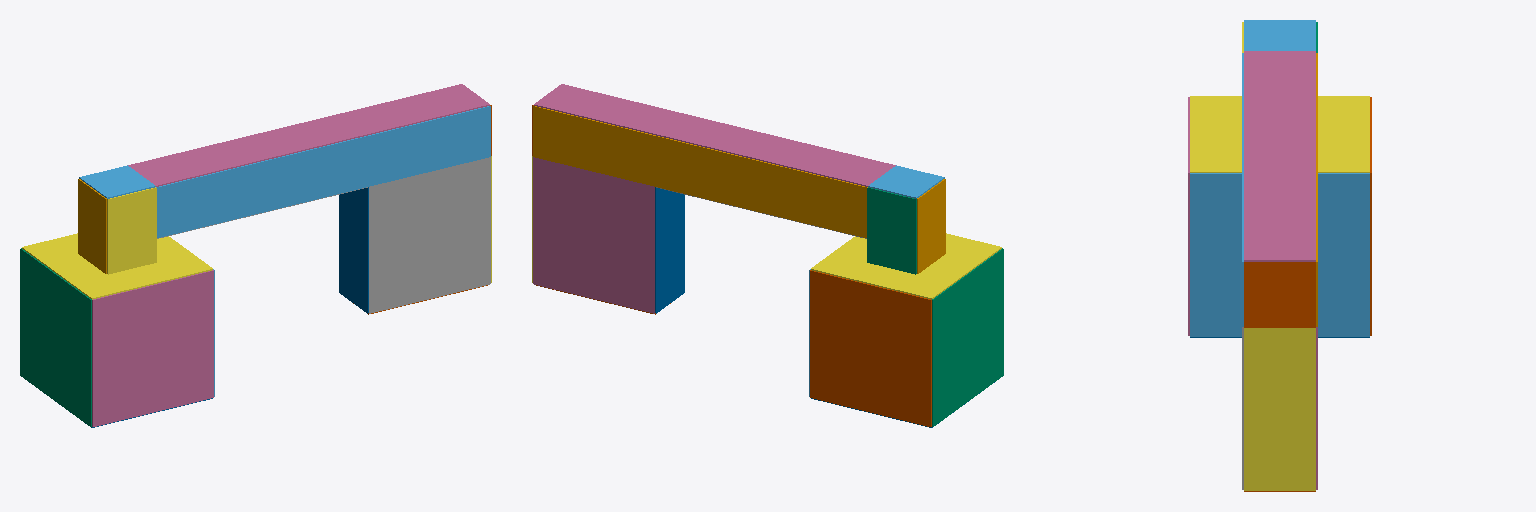
--- Render facts (derived) ---
The picture shows the robot from 3 angles, left to right: view 1: azimuth 30°, elevation 25°; view 2: azimuth 150°, elevation 25°; view 3: azimuth 270°, elevation 25°; orthographic projection.
Robot: robot — 46 links, 45 joints (1 continuous, 44 fixed); root link body; default pose: all joints at 0.
Links seen in each view (by area): view 1: arm_sensor_0_right, body_sensor_0_right, hand_1_sensor_0_right, arm_sensor_0_top, body_sensor_0_stop, body_sensor_0_top, joint_1_sensor_0_right, hand_1_sensor_0_stop, joint_1_sensor_0_stop, joint_1_sensor_0_top; view 2: arm_sensor_0_left, body_sensor_0_left, hand_1_sensor_0_left, arm_sensor_0_top, body_sensor_0_stop, body_sensor_0_top, joint_1_sensor_0_left, hand_1_sensor_0_stop, joint_1_sensor_0_stop, joint_1_sensor_0_top; view 3: body_sensor_0_start, arm_sensor_0_top, hand_1_sensor_0_start, body_sensor_0_top, arm_sensor_0_start, joint_1_sensor_0_top, arm_sensor_0_left, arm_sensor_0_right.
Link boxes in pixels (bbox=[...]): arm_sensor_0_right: bbox=[156, 106, 490, 237]; body_sensor_0_right: bbox=[92, 270, 213, 426]; hand_1_sensor_0_right: bbox=[369, 157, 490, 313]; arm_sensor_0_top: bbox=[128, 84, 489, 186]; body_sensor_0_stop: bbox=[20, 248, 91, 426]; body_sensor_0_top: bbox=[22, 233, 212, 299]; joint_1_sensor_0_right: bbox=[107, 187, 156, 274]; hand_1_sensor_0_stop: bbox=[339, 187, 368, 313]; joint_1_sensor_0_stop: bbox=[78, 179, 106, 273]; joint_1_sensor_0_top: bbox=[79, 165, 155, 198]; arm_sensor_0_left: bbox=[533, 106, 867, 237]; body_sensor_0_left: bbox=[810, 270, 931, 426]; hand_1_sensor_0_left: bbox=[533, 157, 654, 313]; arm_sensor_0_top: bbox=[534, 84, 895, 186]; body_sensor_0_stop: bbox=[932, 248, 1003, 426]; body_sensor_0_top: bbox=[811, 233, 1001, 299]; joint_1_sensor_0_left: bbox=[867, 187, 916, 274]; hand_1_sensor_0_stop: bbox=[655, 187, 684, 313]; joint_1_sensor_0_stop: bbox=[917, 179, 945, 273]; joint_1_sensor_0_top: bbox=[868, 165, 944, 198]; body_sensor_0_start: bbox=[1190, 173, 1369, 336]; arm_sensor_0_top: bbox=[1244, 51, 1315, 261]; hand_1_sensor_0_start: bbox=[1244, 328, 1315, 490]; body_sensor_0_top: bbox=[1190, 96, 1369, 172]; arm_sensor_0_start: bbox=[1244, 262, 1315, 327]; joint_1_sensor_0_top: bbox=[1244, 20, 1315, 50]; arm_sensor_0_left: bbox=[1316, 53, 1317, 326]; arm_sensor_0_right: bbox=[1242, 53, 1243, 326].
Bounding box of the posed robot: 3.47 × 1.02 × 1.62 m (x, y, z).
Geometry: primitives only (box / cylinder / sphere), no mesh files.

robot.urdf — robot:
<?xml version="1.0"?>
    <robot name="robot">


    <!-- body -->
    <link name="body">
        <inertial>
            <origin xyz="0 0 0" rpy="0 0 0"/>
            <mass value="100"/>
            <inertia ixx=".1" ixy=".1" ixz=".1" iyy=".1" iyz=".1" izz=".1"/>
        </inertial>
        <visual>
            <origin xyz="0 0 0" rpy="0 0 0"/>
            <geometry>
                <box size="1 1 1"/>
            </geometry>
        </visual>
        <collision>
            <origin xyz="0 0 0" rpy="0 0 0"/>
            <geometry>
                <box size="1 1 1"/>
            </geometry>
        </collision>
    </link>


    <!-- body_sensor_0_start -->
    <link name="body_sensor_0_start">
        <inertial>
            <origin xyz="0 0 0" rpy="0 0 0"/>
            <mass value="0"/>
            <inertia ixx=".1" ixy=".1" ixz=".1" iyy=".1" iyz=".1" izz=".1"/>
        </inertial>
        <visual>
            <origin xyz="0 0 0" rpy="0 0 0"/>
            <geometry>
                <box size="0.02 1 1"/>
            </geometry>
        </visual>
        <collision>
            <origin xyz="0 0 0" rpy="0 0 0"/>
            <geometry>
                <box size="0.02 1 1"/>
            </geometry>
        </collision>
    </link>
    <!-- Joint: body, body_sensor_0_start -->
    <joint name="body_body_sensor_0_start_joint" type="fixed">
        <parent link="body"/>
        <child link="body_sensor_0_start"/>
        <origin xyz="0.5 0 0"
                rpy="0 0 0"/>
        <axis xyz="0 0 1"/>
        
    </joint>


    <!-- body_sensor_0_stop -->
    <link name="body_sensor_0_stop">
        <inertial>
            <origin xyz="0 0 0" rpy="0 0 0"/>
            <mass value="0"/>
            <inertia ixx=".1" ixy=".1" ixz=".1" iyy=".1" iyz=".1" izz=".1"/>
        </inertial>
        <visual>
            <origin xyz="0 0 0" rpy="0 0 0"/>
            <geometry>
                <box size="0.02 1 1"/>
            </geometry>
        </visual>
        <collision>
            <origin xyz="0 0 0" rpy="0 0 0"/>
            <geometry>
                <box size="0.02 1 1"/>
            </geometry>
        </collision>
    </link>
    <!-- Joint: body, body_sensor_0_stop -->
    <joint name="body_body_sensor_0_stop_joint" type="fixed">
        <parent link="body"/>
        <child link="body_sensor_0_stop"/>
        <origin xyz="-0.5 0 0"
                rpy="0 0 0"/>
        <axis xyz="0 0 1"/>
        
    </joint>


    <!-- body_sensor_0_top -->
    <link name="body_sensor_0_top">
        <inertial>
            <origin xyz="0 0 0" rpy="0 0 0"/>
            <mass value="0"/>
            <inertia ixx=".1" ixy=".1" ixz=".1" iyy=".1" iyz=".1" izz=".1"/>
        </inertial>
        <visual>
            <origin xyz="0 0 0" rpy="0 0 0"/>
            <geometry>
                <box size="1.0 1 0.02"/>
            </geometry>
        </visual>
        <collision>
            <origin xyz="0 0 0" rpy="0 0 0"/>
            <geometry>
                <box size="1.0 1 0.02"/>
            </geometry>
        </collision>
    </link>
    <!-- Joint: body, body_sensor_0_top -->
    <joint name="body_body_sensor_0_top_joint" type="fixed">
        <parent link="body"/>
        <child link="body_sensor_0_top"/>
        <origin xyz="0 0 0.5"
                rpy="0 0 0"/>
        <axis xyz="0 0 1"/>
        
    </joint>


    <!-- body_sensor_0_bottom -->
    <link name="body_sensor_0_bottom">
        <inertial>
            <origin xyz="0 0 0" rpy="0 0 0"/>
            <mass value="0"/>
            <inertia ixx=".1" ixy=".1" ixz=".1" iyy=".1" iyz=".1" izz=".1"/>
        </inertial>
        <visual>
            <origin xyz="0 0 0" rpy="0 0 0"/>
            <geometry>
                <box size="1.0 1 0.02"/>
            </geometry>
        </visual>
        <collision>
            <origin xyz="0 0 0" rpy="0 0 0"/>
            <geometry>
                <box size="1.0 1 0.02"/>
            </geometry>
        </collision>
    </link>
    <!-- Joint: body, body_sensor_0_bottom -->
    <joint name="body_body_sensor_0_bottom_joint" type="fixed">
        <parent link="body"/>
        <child link="body_sensor_0_bottom"/>
        <origin xyz="0 0 -0.5"
                rpy="0 0 0"/>
        <axis xyz="0 0 1"/>
        
    </joint>


    <!-- body_sensor_0_left -->
    <link name="body_sensor_0_left">
        <inertial>
            <origin xyz="0 0 0" rpy="0 0 0"/>
            <mass value="0"/>
            <inertia ixx=".1" ixy=".1" ixz=".1" iyy=".1" iyz=".1" izz=".1"/>
        </inertial>
        <visual>
            <origin xyz="0 0 0" rpy="0 0 0"/>
            <geometry>
                <box size="1.0 0.02 1"/>
            </geometry>
        </visual>
        <collision>
            <origin xyz="0 0 0" rpy="0 0 0"/>
            <geometry>
                <box size="1.0 0.02 1"/>
            </geometry>
        </collision>
    </link>
    <!-- Joint: body, body_sensor_0_left -->
    <joint name="body_body_sensor_0_left_joint" type="fixed">
        <parent link="body"/>
        <child link="body_sensor_0_left"/>
        <origin xyz="0 0.5 0"
                rpy="0 0 0"/>
        <axis xyz="0 0 1"/>
        
    </joint>


    <!-- body_sensor_0_right -->
    <link name="body_sensor_0_right">
        <inertial>
            <origin xyz="0 0 0" rpy="0 0 0"/>
            <mass value="0"/>
            <inertia ixx=".1" ixy=".1" ixz=".1" iyy=".1" iyz=".1" izz=".1"/>
        </inertial>
        <visual>
            <origin xyz="0 0 0" rpy="0 0 0"/>
            <geometry>
                <box size="1.0 0.02 1"/>
            </geometry>
        </visual>
        <collision>
            <origin xyz="0 0 0" rpy="0 0 0"/>
            <geometry>
                <box size="1.0 0.02 1"/>
            </geometry>
        </collision>
    </link>
    <!-- Joint: body, body_sensor_0_right -->
    <joint name="body_body_sensor_0_right_joint" type="fixed">
        <parent link="body"/>
        <child link="body_sensor_0_right"/>
        <origin xyz="0 -0.5 0"
                rpy="0 0 0"/>
        <axis xyz="0 0 1"/>
        
    </joint>


    <!-- joint_1 -->
    <link name="joint_1">
        <inertial>
            <origin xyz="0 0 0" rpy="0 0 0"/>
            <mass value="2"/>
            <inertia ixx=".1" ixy=".1" ixz=".1" iyy=".1" iyz=".1" izz=".1"/>
        </inertial>
        <visual>
            <origin xyz="0 0 0" rpy="0 0 0"/>
            <geometry>
                <box size="0.4 0.4 0.6000000000000001"/>
            </geometry>
        </visual>
        <collision>
            <origin xyz="0 0 0" rpy="0 0 0"/>
            <geometry>
                <box size="0.4 0.4 0.6000000000000001"/>
            </geometry>
        </collision>
    </link>


    <!-- joint_1_sensor_0_stop -->
    <link name="joint_1_sensor_0_stop">
        <inertial>
            <origin xyz="0 0 0" rpy="0 0 0"/>
            <mass value="0"/>
            <inertia ixx=".1" ixy=".1" ixz=".1" iyy=".1" iyz=".1" izz=".1"/>
        </inertial>
        <visual>
            <origin xyz="0 0 0" rpy="0 0 0"/>
            <geometry>
                <box size="0.02 0.4 0.6000000000000001"/>
            </geometry>
        </visual>
        <collision>
            <origin xyz="0 0 0" rpy="0 0 0"/>
            <geometry>
                <box size="0.02 0.4 0.6000000000000001"/>
            </geometry>
        </collision>
    </link>
    <!-- Joint: joint_1, joint_1_sensor_0_stop -->
    <joint name="joint_1_joint_1_sensor_0_stop_joint" type="fixed">
        <parent link="joint_1"/>
        <child link="joint_1_sensor_0_stop"/>
        <origin xyz="-0.2 0 0"
                rpy="0 0 0"/>
        <axis xyz="0 0 1"/>
        
    </joint>


    <!-- joint_1_sensor_0_top -->
    <link name="joint_1_sensor_0_top">
        <inertial>
            <origin xyz="0 0 0" rpy="0 0 0"/>
            <mass value="0"/>
            <inertia ixx=".1" ixy=".1" ixz=".1" iyy=".1" iyz=".1" izz=".1"/>
        </inertial>
        <visual>
            <origin xyz="0 0 0" rpy="0 0 0"/>
            <geometry>
                <box size="0.4 0.4 0.02"/>
            </geometry>
        </visual>
        <collision>
            <origin xyz="0 0 0" rpy="0 0 0"/>
            <geometry>
                <box size="0.4 0.4 0.02"/>
            </geometry>
        </collision>
    </link>
    <!-- Joint: joint_1, joint_1_sensor_0_top -->
    <joint name="joint_1_joint_1_sensor_0_top_joint" type="fixed">
        <parent link="joint_1"/>
        <child link="joint_1_sensor_0_top"/>
        <origin xyz="0 0 0.30000000000000004"
                rpy="0 0 0"/>
        <axis xyz="0 0 1"/>
        
    </joint>


    <!-- joint_1_sensor_0_left -->
    <link name="joint_1_sensor_0_left">
        <inertial>
            <origin xyz="0 0 0" rpy="0 0 0"/>
            <mass value="0"/>
            <inertia ixx=".1" ixy=".1" ixz=".1" iyy=".1" iyz=".1" izz=".1"/>
        </inertial>
        <visual>
            <origin xyz="0 0 0" rpy="0 0 0"/>
            <geometry>
                <box size="0.4 0.02 0.6000000000000001"/>
            </geometry>
        </visual>
        <collision>
            <origin xyz="0 0 0" rpy="0 0 0"/>
            <geometry>
                <box size="0.4 0.02 0.6000000000000001"/>
            </geometry>
        </collision>
    </link>
    <!-- Joint: joint_1, joint_1_sensor_0_left -->
    <joint name="joint_1_joint_1_sensor_0_left_joint" type="fixed">
        <parent link="joint_1"/>
        <child link="joint_1_sensor_0_left"/>
        <origin xyz="0 0.2 0"
                rpy="0 0 0"/>
        <axis xyz="0 0 1"/>
        
    </joint>


    <!-- joint_1_sensor_0_right -->
    <link name="joint_1_sensor_0_right">
        <inertial>
            <origin xyz="0 0 0" rpy="0 0 0"/>
            <mass value="0"/>
            <inertia ixx=".1" ixy=".1" ixz=".1" iyy=".1" iyz=".1" izz=".1"/>
        </inertial>
        <visual>
            <origin xyz="0 0 0" rpy="0 0 0"/>
            <geometry>
                <box size="0.4 0.02 0.6000000000000001"/>
            </geometry>
        </visual>
        <collision>
            <origin xyz="0 0 0" rpy="0 0 0"/>
            <geometry>
                <box size="0.4 0.02 0.6000000000000001"/>
            </geometry>
        </collision>
    </link>
    <!-- Joint: joint_1, joint_1_sensor_0_right -->
    <joint name="joint_1_joint_1_sensor_0_right_joint" type="fixed">
        <parent link="joint_1"/>
        <child link="joint_1_sensor_0_right"/>
        <origin xyz="0 -0.2 0"
                rpy="0 0 0"/>
        <axis xyz="0 0 1"/>
        
    </joint>
    <!-- Joint: body, joint_1 -->
    <joint name="body_joint_1_joint" type="continuous">
        <parent link="body"/>
        <child link="joint_1"/>
        <origin xyz="0 0 0.8"
                rpy="0 0 0"/>
        <axis xyz="0 0 1"/>
        <limit lower="0" upper="0" effort="0" velocity="0"/>
    </joint>


    <!-- arm -->
    <link name="arm">
        <inertial>
            <origin xyz="0 0 0" rpy="0 0 0"/>
            <mass value="2"/>
            <inertia ixx=".1" ixy=".1" ixz=".1" iyy=".1" iyz=".1" izz=".1"/>
        </inertial>
        <visual>
            <origin xyz="0 0 0" rpy="0 0 0"/>
            <geometry>
                <box size="2.75 0.4 0.4"/>
            </geometry>
        </visual>
        <collision>
            <origin xyz="0 0 0" rpy="0 0 0"/>
            <geometry>
                <box size="2.75 0.4 0.4"/>
            </geometry>
        </collision>
    </link>


    <!-- arm_sensor_0_start -->
    <link name="arm_sensor_0_start">
        <inertial>
            <origin xyz="0 0 0" rpy="0 0 0"/>
            <mass value="0"/>
            <inertia ixx=".1" ixy=".1" ixz=".1" iyy=".1" iyz=".1" izz=".1"/>
        </inertial>
        <visual>
            <origin xyz="0 0 0" rpy="0 0 0"/>
            <geometry>
                <box size="0.02 0.4 0.4"/>
            </geometry>
        </visual>
        <collision>
            <origin xyz="0 0 0" rpy="0 0 0"/>
            <geometry>
                <box size="0.02 0.4 0.4"/>
            </geometry>
        </collision>
    </link>
    <!-- Joint: arm, arm_sensor_0_start -->
    <joint name="arm_arm_sensor_0_start_joint" type="fixed">
        <parent link="arm"/>
        <child link="arm_sensor_0_start"/>
        <origin xyz="1.375 0 0"
                rpy="0 0 0"/>
        <axis xyz="0 1 0"/>
        
    </joint>


    <!-- arm_sensor_0_top -->
    <link name="arm_sensor_0_top">
        <inertial>
            <origin xyz="0 0 0" rpy="0 0 0"/>
            <mass value="0"/>
            <inertia ixx=".1" ixy=".1" ixz=".1" iyy=".1" iyz=".1" izz=".1"/>
        </inertial>
        <visual>
            <origin xyz="0 0 0" rpy="0 0 0"/>
            <geometry>
                <box size="2.75 0.4 0.02"/>
            </geometry>
        </visual>
        <collision>
            <origin xyz="0 0 0" rpy="0 0 0"/>
            <geometry>
                <box size="2.75 0.4 0.02"/>
            </geometry>
        </collision>
    </link>
    <!-- Joint: arm, arm_sensor_0_top -->
    <joint name="arm_arm_sensor_0_top_joint" type="fixed">
        <parent link="arm"/>
        <child link="arm_sensor_0_top"/>
        <origin xyz="0 0 0.2"
                rpy="0 0 0"/>
        <axis xyz="0 1 0"/>
        
    </joint>


    <!-- arm_sensor_0_bottom -->
    <link name="arm_sensor_0_bottom">
        <inertial>
            <origin xyz="0 0 0" rpy="0 0 0"/>
            <mass value="0"/>
            <inertia ixx=".1" ixy=".1" ixz=".1" iyy=".1" iyz=".1" izz=".1"/>
        </inertial>
        <visual>
            <origin xyz="0 0 0" rpy="0 0 0"/>
            <geometry>
                <box size="2.75 0.4 0.02"/>
            </geometry>
        </visual>
        <collision>
            <origin xyz="0 0 0" rpy="0 0 0"/>
            <geometry>
                <box size="2.75 0.4 0.02"/>
            </geometry>
        </collision>
    </link>
    <!-- Joint: arm, arm_sensor_0_bottom -->
    <joint name="arm_arm_sensor_0_bottom_joint" type="fixed">
        <parent link="arm"/>
        <child link="arm_sensor_0_bottom"/>
        <origin xyz="0 0 -0.2"
                rpy="0 0 0"/>
        <axis xyz="0 1 0"/>
        
    </joint>


    <!-- arm_sensor_0_left -->
    <link name="arm_sensor_0_left">
        <inertial>
            <origin xyz="0 0 0" rpy="0 0 0"/>
            <mass value="0"/>
            <inertia ixx=".1" ixy=".1" ixz=".1" iyy=".1" iyz=".1" izz=".1"/>
        </inertial>
        <visual>
            <origin xyz="0 0 0" rpy="0 0 0"/>
            <geometry>
                <box size="2.75 0.02 0.4"/>
            </geometry>
        </visual>
        <collision>
            <origin xyz="0 0 0" rpy="0 0 0"/>
            <geometry>
                <box size="2.75 0.02 0.4"/>
            </geometry>
        </collision>
    </link>
    <!-- Joint: arm, arm_sensor_0_left -->
    <joint name="arm_arm_sensor_0_left_joint" type="fixed">
        <parent link="arm"/>
        <child link="arm_sensor_0_left"/>
        <origin xyz="0 0.2 0"
                rpy="0 0 0"/>
        <axis xyz="0 1 0"/>
        
    </joint>


    <!-- arm_sensor_0_right -->
    <link name="arm_sensor_0_right">
        <inertial>
            <origin xyz="0 0 0" rpy="0 0 0"/>
            <mass value="0"/>
            <inertia ixx=".1" ixy=".1" ixz=".1" iyy=".1" iyz=".1" izz=".1"/>
        </inertial>
        <visual>
            <origin xyz="0 0 0" rpy="0 0 0"/>
            <geometry>
                <box size="2.75 0.02 0.4"/>
            </geometry>
        </visual>
        <collision>
            <origin xyz="0 0 0" rpy="0 0 0"/>
            <geometry>
                <box size="2.75 0.02 0.4"/>
            </geometry>
        </collision>
    </link>
    <!-- Joint: arm, arm_sensor_0_right -->
    <joint name="arm_arm_sensor_0_right_joint" type="fixed">
        <parent link="arm"/>
        <child link="arm_sensor_0_right"/>
        <origin xyz="0 -0.2 0"
                rpy="0 0 0"/>
        <axis xyz="0 1 0"/>
        
    </joint>
    <!-- Joint: joint_1, arm -->
    <joint name="joint_1_arm_joint" type="fixed">
        <parent link="joint_1"/>
        <child link="arm"/>
        <origin xyz="1.575 0 0.10000000000000003"
                rpy="0 0 0"/>
        <axis xyz="0 1 0"/>
        
    </joint>


    <!-- hand_1 -->
    <link name="hand_1">
        <inertial>
            <origin xyz="0 0 0" rpy="0 0 0"/>
            <mass value="2"/>
            <inertia ixx=".1" ixy=".1" ixz=".1" iyy=".1" iyz=".1" izz=".1"/>
        </inertial>
        <visual>
            <origin xyz="0 0 0" rpy="0 0 0"/>
            <geometry>
                <box size="1 0.4 1"/>
            </geometry>
        </visual>
        <collision>
            <origin xyz="0 0 0" rpy="0 0 0"/>
            <geometry>
                <box size="1 0.4 1"/>
            </geometry>
        </collision>
    </link>


    <!-- hand_1_sensor_0_start -->
    <link name="hand_1_sensor_0_start">
        <inertial>
            <origin xyz="0 0 0" rpy="0 0 0"/>
            <mass value="0"/>
            <inertia ixx=".1" ixy=".1" ixz=".1" iyy=".1" iyz=".1" izz=".1"/>
        </inertial>
        <visual>
            <origin xyz="0 0 0" rpy="0 0 0"/>
            <geometry>
                <box size="0.02 0.4 1"/>
            </geometry>
        </visual>
        <collision>
            <origin xyz="0 0 0" rpy="0 0 0"/>
            <geometry>
                <box size="0.02 0.4 1"/>
            </geometry>
        </collision>
    </link>
    <!-- Joint: hand_1, hand_1_sensor_0_start -->
    <joint name="hand_1_hand_1_sensor_0_start_joint" type="fixed">
        <parent link="hand_1"/>
        <child link="hand_1_sensor_0_start"/>
        <origin xyz="0.5 0 0"
                rpy="0 0 0"/>
        <axis xyz="0 1 0"/>
        
    </joint>


    <!-- hand_1_sensor_0_stop -->
    <link name="hand_1_sensor_0_stop">
        <inertial>
            <origin xyz="0 0 0" rpy="0 0 0"/>
            <mass value="0"/>
            <inertia ixx=".1" ixy=".1" ixz=".1" iyy=".1" iyz=".1" izz=".1"/>
        </inertial>
        <visual>
            <origin xyz="0 0 0" rpy="0 0 0"/>
            <geometry>
                <box size="0.02 0.4 1"/>
            </geometry>
        </visual>
        <collision>
            <origin xyz="0 0 0" rpy="0 0 0"/>
            <geometry>
                <box size="0.02 0.4 1"/>
            </geometry>
        </collision>
    </link>
    <!-- Joint: hand_1, hand_1_sensor_0_stop -->
    <joint name="hand_1_hand_1_sensor_0_stop_joint" type="fixed">
        <parent link="hand_1"/>
        <child link="hand_1_sensor_0_stop"/>
        <origin xyz="-0.5 0 0"
                rpy="0 0 0"/>
        <axis xyz="0 1 0"/>
        
    </joint>


    <!-- hand_1_sensor_0_bottom -->
    <link name="hand_1_sensor_0_bottom">
        <inertial>
            <origin xyz="0 0 0" rpy="0 0 0"/>
            <mass value="0"/>
            <inertia ixx=".1" ixy=".1" ixz=".1" iyy=".1" iyz=".1" izz=".1"/>
        </inertial>
        <visual>
            <origin xyz="0 0 0" rpy="0 0 0"/>
            <geometry>
                <box size="1.0 0.4 0.02"/>
            </geometry>
        </visual>
        <collision>
            <origin xyz="0 0 0" rpy="0 0 0"/>
            <geometry>
                <box size="1.0 0.4 0.02"/>
            </geometry>
        </collision>
    </link>
    <!-- Joint: hand_1, hand_1_sensor_0_bottom -->
    <joint name="hand_1_hand_1_sensor_0_bottom_joint" type="fixed">
        <parent link="hand_1"/>
        <child link="hand_1_sensor_0_bottom"/>
        <origin xyz="0 0 -0.5"
                rpy="0 0 0"/>
        <axis xyz="0 1 0"/>
        
    </joint>


    <!-- hand_1_sensor_0_left -->
    <link name="hand_1_sensor_0_left">
        <inertial>
            <origin xyz="0 0 0" rpy="0 0 0"/>
            <mass value="0"/>
            <inertia ixx=".1" ixy=".1" ixz=".1" iyy=".1" iyz=".1" izz=".1"/>
        </inertial>
        <visual>
            <origin xyz="0 0 0" rpy="0 0 0"/>
            <geometry>
                <box size="1.0 0.02 1"/>
            </geometry>
        </visual>
        <collision>
            <origin xyz="0 0 0" rpy="0 0 0"/>
            <geometry>
                <box size="1.0 0.02 1"/>
            </geometry>
        </collision>
    </link>
    <!-- Joint: hand_1, hand_1_sensor_0_left -->
    <joint name="hand_1_hand_1_sensor_0_left_joint" type="fixed">
        <parent link="hand_1"/>
        <child link="hand_1_sensor_0_left"/>
        <origin xyz="0 0.2 0"
                rpy="0 0 0"/>
        <axis xyz="0 1 0"/>
        
    </joint>


    <!-- hand_1_sensor_0_right -->
    <link name="hand_1_sensor_0_right">
        <inertial>
            <origin xyz="0 0 0" rpy="0 0 0"/>
            <mass value="0"/>
            <inertia ixx=".1" ixy=".1" ixz=".1" iyy=".1" iyz=".1" izz=".1"/>
        </inertial>
        <visual>
            <origin xyz="0 0 0" rpy="0 0 0"/>
            <geometry>
                <box size="1.0 0.02 1"/>
            </geometry>
        </visual>
        <collision>
            <origin xyz="0 0 0" rpy="0 0 0"/>
            <geometry>
                <box size="1.0 0.02 1"/>
            </geometry>
        </collision>
    </link>
    <!-- Joint: hand_1, hand_1_sensor_0_right -->
    <joint name="hand_1_hand_1_sensor_0_right_joint" type="fixed">
        <parent link="hand_1"/>
        <child link="hand_1_sensor_0_right"/>
        <origin xyz="0 -0.2 0"
                rpy="0 0 0"/>
        <axis xyz="0 1 0"/>
        
    </joint>
    <!-- Joint: arm, hand_1 -->
    <joint name="arm_hand_1_joint" type="fixed">
        <parent link="arm"/>
        <child link="hand_1"/>
        <origin xyz="0.875 0 -0.7"
                rpy="0 0 0"/>
        <axis xyz="0 1 0"/>
        
    </joint>


    <!-- body_face_front_0 -->
    <link name="body_face_front_0">
        <inertial>
            <origin xyz="0 0 0" rpy="0 0 0"/>
            <mass value="0"/>
            <inertia ixx=".1" ixy=".1" ixz=".1" iyy=".1" iyz=".1" izz=".1"/>
        </inertial>
        <visual>
            <origin xyz="0 0 0" rpy="0 0 0"/>
            <geometry>
                <box size="0.002 0.1111111111111111 0.1111111111111111"/>
            </geometry>
        </visual>
        <collision>
            <origin xyz="0 0 0" rpy="0 0 0"/>
            <geometry>
                <box size="0.002 0.1111111111111111 0.1111111111111111"/>
            </geometry>
        </collision>
    </link>
    <!-- Joint: body, body_face_front_0 -->
    <joint name="body_body_face_front_0_joint" type="fixed">
        <parent link="body"/>
        <child link="body_face_front_0"/>
        <origin xyz="0.501 -0.33333333333333337 0.11111111111111116"
                rpy="0 0 0"/>
        <axis xyz="0 0 1"/>
        
    </joint>


    <!-- body_face_front_1 -->
    <link name="body_face_front_1">
        <inertial>
            <origin xyz="0 0 0" rpy="0 0 0"/>
            <mass value="0"/>
            <inertia ixx=".1" ixy=".1" ixz=".1" iyy=".1" iyz=".1" izz=".1"/>
        </inertial>
        <visual>
            <origin xyz="0 0 0" rpy="0 0 0"/>
            <geometry>
                <box size="0.002 0.1111111111111111 0.1111111111111111"/>
            </geometry>
        </visual>
        <collision>
            <origin xyz="0 0 0" rpy="0 0 0"/>
            <geometry>
                <box size="0.002 0.1111111111111111 0.1111111111111111"/>
            </geometry>
        </collision>
    </link>
    <!-- Joint: body, body_face_front_1 -->
    <joint name="body_body_face_front_1_joint" type="fixed">
        <parent link="body"/>
        <child link="body_face_front_1"/>
        <origin xyz="0.501 -0.2222222222222222 0.2222222222222222"
                rpy="0 0 0"/>
        <axis xyz="0 0 1"/>
        
    </joint>


    <!-- body_face_front_2 -->
    <link name="body_face_front_2">
        <inertial>
            <origin xyz="0 0 0" rpy="0 0 0"/>
            <mass value="0"/>
            <inertia ixx=".1" ixy=".1" ixz=".1" iyy=".1" iyz=".1" izz=".1"/>
        </inertial>
        <visual>
            <origin xyz="0 0 0" rpy="0 0 0"/>
            <geometry>
                <box size="0.002 0.1111111111111111 0.1111111111111111"/>
            </geometry>
        </visual>
        <collision>
            <origin xyz="0 0 0" rpy="0 0 0"/>
            <geometry>
                <box size="0.002 0.1111111111111111 0.1111111111111111"/>
            </geometry>
        </collision>
    </link>
    <!-- Joint: body, body_face_front_2 -->
    <joint name="body_body_face_front_2_joint" type="fixed">
        <parent link="body"/>
        <child link="body_face_front_2"/>
        <origin xyz="0.501 -0.1111111111111111 0.11111111111111116"
                rpy="0 0 0"/>
        <axis xyz="0 0 1"/>
        
    </joint>


    <!-- body_face_front_3 -->
    <link name="body_face_front_3">
        <inertial>
            <origin xyz="0 0 0" rpy="0 0 0"/>
            <mass value="0"/>
            <inertia ixx=".1" ixy=".1" ixz=".1" iyy=".1" iyz=".1" izz=".1"/>
        </inertial>
        <visual>
            <origin xyz="0 0 0" rpy="0 0 0"/>
            <geometry>
                <box size="0.002 0.1111111111111111 0.1111111111111111"/>
            </geometry>
        </visual>
        <collision>
            <origin xyz="0 0 0" rpy="0 0 0"/>
            <geometry>
                <box size="0.002 0.1111111111111111 0.1111111111111111"/>
            </geometry>
        </collision>
    </link>
    <!-- Joint: body, body_face_front_3 -->
    <joint name="body_body_face_front_3_joint" type="fixed">
        <parent link="body"/>
        <child link="body_face_front_3"/>
        <origin xyz="0.501 -0.1111111111111111 -0.2222222222222222"
                rpy="0 0 0"/>
        <axis xyz="0 0 1"/>
        
    </joint>


    <!-- body_face_front_4 -->
    <link name="body_face_front_4">
        <inertial>
            <origin xyz="0 0 0" rpy="0 0 0"/>
            <mass value="0"/>
            <inertia ixx=".1" ixy=".1" ixz=".1" iyy=".1" iyz=".1" izz=".1"/>
        </inertial>
        <visual>
            <origin xyz="0 0 0" rpy="0 0 0"/>
            <geometry>
                <box size="0.002 0.1111111111111111 0.1111111111111111"/>
            </geometry>
        </visual>
        <collision>
            <origin xyz="0 0 0" rpy="0 0 0"/>
            <geometry>
                <box size="0.002 0.1111111111111111 0.1111111111111111"/>
            </geometry>
        </collision>
    </link>
    <!-- Joint: body, body_face_front_4 -->
    <joint name="body_body_face_front_4_joint" type="fixed">
        <parent link="body"/>
        <child link="body_face_front_4"/>
        <origin xyz="0.501 0.0 -0.2222222222222222"
                rpy="0 0 0"/>
        <axis xyz="0 0 1"/>
        
    </joint>


    <!-- body_face_front_5 -->
    <link name="body_face_front_5">
        <inertial>
            <origin xyz="0 0 0" rpy="0 0 0"/>
            <mass value="0"/>
            <inertia ixx=".1" ixy=".1" ixz=".1" iyy=".1" iyz=".1" izz=".1"/>
        </inertial>
        <visual>
            <origin xyz="0 0 0" rpy="0 0 0"/>
            <geometry>
                <box size="0.002 0.1111111111111111 0.1111111111111111"/>
            </geometry>
        </visual>
        <collision>
            <origin xyz="0 0 0" rpy="0 0 0"/>
            <geometry>
                <box size="0.002 0.1111111111111111 0.1111111111111111"/>
            </geometry>
        </collision>
    </link>
    <!-- Joint: body, body_face_front_5 -->
    <joint name="body_body_face_front_5_joint" type="fixed">
        <parent link="body"/>
        <child link="body_face_front_5"/>
        <origin xyz="0.501 0.11111111111111116 0.11111111111111116"
                rpy="0 0 0"/>
        <axis xyz="0 0 1"/>
        
    </joint>


    <!-- body_face_front_6 -->
    <link name="body_face_front_6">
        <inertial>
            <origin xyz="0 0 0" rpy="0 0 0"/>
            <mass value="0"/>
            <inertia ixx=".1" ixy=".1" ixz=".1" iyy=".1" iyz=".1" izz=".1"/>
        </inertial>
        <visual>
            <origin xyz="0 0 0" rpy="0 0 0"/>
            <geometry>
                <box size="0.002 0.1111111111111111 0.1111111111111111"/>
            </geometry>
        </visual>
        <collision>
            <origin xyz="0 0 0" rpy="0 0 0"/>
            <geometry>
                <box size="0.002 0.1111111111111111 0.1111111111111111"/>
            </geometry>
        </collision>
    </link>
    <!-- Joint: body, body_face_front_6 -->
    <joint name="body_body_face_front_6_joint" type="fixed">
        <parent link="body"/>
        <child link="body_face_front_6"/>
        <origin xyz="0.501 0.11111111111111116 -0.2222222222222222"
                rpy="0 0 0"/>
        <axis xyz="0 0 1"/>
        
    </joint>


    <!-- body_face_front_7 -->
    <link name="body_face_front_7">
        <inertial>
            <origin xyz="0 0 0" rpy="0 0 0"/>
            <mass value="0"/>
            <inertia ixx=".1" ixy=".1" ixz=".1" iyy=".1" iyz=".1" izz=".1"/>
        </inertial>
        <visual>
            <origin xyz="0 0 0" rpy="0 0 0"/>
            <geometry>
                <box size="0.002 0.1111111111111111 0.1111111111111111"/>
            </geometry>
        </visual>
        <collision>
            <origin xyz="0 0 0" rpy="0 0 0"/>
            <geometry>
                <box size="0.002 0.1111111111111111 0.1111111111111111"/>
            </geometry>
        </collision>
    </link>
    <!-- Joint: body, body_face_front_7 -->
    <joint name="body_body_face_front_7_joint" type="fixed">
        <parent link="body"/>
        <child link="body_face_front_7"/>
        <origin xyz="0.501 0.2222222222222222 0.2222222222222222"
                rpy="0 0 0"/>
        <axis xyz="0 0 1"/>
        
    </joint>


    <!-- body_face_front_8 -->
    <link name="body_face_front_8">
        <inertial>
            <origin xyz="0 0 0" rpy="0 0 0"/>
            <mass value="0"/>
            <inertia ixx=".1" ixy=".1" ixz=".1" iyy=".1" iyz=".1" izz=".1"/>
        </inertial>
        <visual>
            <origin xyz="0 0 0" rpy="0 0 0"/>
            <geometry>
                <box size="0.002 0.1111111111111111 0.1111111111111111"/>
            </geometry>
        </visual>
        <collision>
            <origin xyz="0 0 0" rpy="0 0 0"/>
            <geometry>
                <box size="0.002 0.1111111111111111 0.1111111111111111"/>
            </geometry>
        </collision>
    </link>
    <!-- Joint: body, body_face_front_8 -->
    <joint name="body_body_face_front_8_joint" type="fixed">
        <parent link="body"/>
        <child link="body_face_front_8"/>
        <origin xyz="0.501 0.33333333333333337 0.11111111111111116"
                rpy="0 0 0"/>
        <axis xyz="0 0 1"/>
        
    </joint>


    <!-- body_face_top_0 -->
    <link name="body_face_top_0">
        <inertial>
            <origin xyz="0 0 0" rpy="0 0 0"/>
            <mass value="0"/>
            <inertia ixx=".1" ixy=".1" ixz=".1" iyy=".1" iyz=".1" izz=".1"/>
        </inertial>
        <visual>
            <origin xyz="0 0 0" rpy="0 0 0"/>
            <geometry>
                <box size="0.1111111111111111 0.1111111111111111 0.002"/>
            </geometry>
        </visual>
        <collision>
            <origin xyz="0 0 0" rpy="0 0 0"/>
            <geometry>
                <box size="0.1111111111111111 0.1111111111111111 0.002"/>
            </geometry>
        </collision>
    </link>
    <!-- Joint: body, body_face_top_0 -->
    <joint name="body_body_face_top_0_joint" type="fixed">
        <parent link="body"/>
        <child link="body_face_top_0"/>
        <origin xyz="0.11111111111111116 -0.2222222222222222 0.501"
                rpy="0 0 0"/>
        <axis xyz="0 0 1"/>
        
    </joint>


    <!-- body_face_top_1 -->
    <link name="body_face_top_1">
        <inertial>
            <origin xyz="0 0 0" rpy="0 0 0"/>
            <mass value="0"/>
            <inertia ixx=".1" ixy=".1" ixz=".1" iyy=".1" iyz=".1" izz=".1"/>
        </inertial>
        <visual>
            <origin xyz="0 0 0" rpy="0 0 0"/>
            <geometry>
                <box size="0.1111111111111111 0.1111111111111111 0.002"/>
            </geometry>
        </visual>
        <collision>
            <origin xyz="0 0 0" rpy="0 0 0"/>
            <geometry>
                <box size="0.1111111111111111 0.1111111111111111 0.002"/>
            </geometry>
        </collision>
    </link>
    <!-- Joint: body, body_face_top_1 -->
    <joint name="body_body_face_top_1_joint" type="fixed">
        <parent link="body"/>
        <child link="body_face_top_1"/>
        <origin xyz="0.11111111111111116 -0.1111111111111111 0.501"
                rpy="0 0 0"/>
        <axis xyz="0 0 1"/>
        
    </joint>


    <!-- body_face_top_2 -->
    <link name="body_face_top_2">
        <inertial>
            <origin xyz="0 0 0" rpy="0 0 0"/>
            <mass value="0"/>
            <inertia ixx=".1" ixy=".1" ixz=".1" iyy=".1" iyz=".1" izz=".1"/>
        </inertial>
        <visual>
            <origin xyz="0 0 0" rpy="0 0 0"/>
            <geometry>
                <box size="0.1111111111111111 0.1111111111111111 0.002"/>
            </geometry>
        </visual>
        <collision>
            <origin xyz="0 0 0" rpy="0 0 0"/>
            <geometry>
                <box size="0.1111111111111111 0.1111111111111111 0.002"/>
            </geometry>
        </collision>
    </link>
    <!-- Joint: body, body_face_top_2 -->
    <joint name="body_body_face_top_2_joint" type="fixed">
        <parent link="body"/>
        <child link="body_face_top_2"/>
        <origin xyz="0.2222222222222222 -0.1111111111111111 0.501"
                rpy="0 0 0"/>
        <axis xyz="0 0 1"/>
        
    </joint>


    <!-- body_face_top_3 -->
    <link name="body_face_top_3">
        <inertial>
            <origin xyz="0 0 0" rpy="0 0 0"/>
            <mass value="0"/>
            <inertia ixx=".1" ixy=".1" ixz=".1" iyy=".1" iyz=".1" izz=".1"/>
        </inertial>
        <visual>
            <origin xyz="0 0 0" rpy="0 0 0"/>
            <geometry>
                <box size="0.1111111111111111 0.1111111111111111 0.002"/>
            </geometry>
        </visual>
        <collision>
            <origin xyz="0 0 0" rpy="0 0 0"/>
            <geometry>
                <box size="0.1111111111111111 0.1111111111111111 0.002"/>
            </geometry>
        </collision>
    </link>
    <!-- Joint: body, body_face_top_3 -->
    <joint name="body_body_face_top_3_joint" type="fixed">
        <parent link="body"/>
        <child link="body_face_top_3"/>
        <origin xyz="-0.33333333333333337 0.0 0.501"
                rpy="0 0 0"/>
        <axis xyz="0 0 1"/>
        
    </joint>


    <!-- body_face_top_4 -->
    <link name="body_face_top_4">
        <inertial>
            <origin xyz="0 0 0" rpy="0 0 0"/>
            <mass value="0"/>
            <inertia ixx=".1" ixy=".1" ixz=".1" iyy=".1" iyz=".1" izz=".1"/>
        </inertial>
        <visual>
            <origin xyz="0 0 0" rpy="0 0 0"/>
            <geometry>
                <box size="0.1111111111111111 0.1111111111111111 0.002"/>
            </geometry>
        </visual>
        <collision>
            <origin xyz="0 0 0" rpy="0 0 0"/>
            <geometry>
                <box size="0.1111111111111111 0.1111111111111111 0.002"/>
            </geometry>
        </collision>
    </link>
    <!-- Joint: body, body_face_top_4 -->
    <joint name="body_body_face_top_4_joint" type="fixed">
        <parent link="body"/>
        <child link="body_face_top_4"/>
        <origin xyz="-0.2222222222222222 0.0 0.501"
                rpy="0 0 0"/>
        <axis xyz="0 0 1"/>
        
    </joint>


    <!-- body_face_top_5 -->
    <link name="body_face_top_5">
        <inertial>
            <origin xyz="0 0 0" rpy="0 0 0"/>
            <mass value="0"/>
            <inertia ixx=".1" ixy=".1" ixz=".1" iyy=".1" iyz=".1" izz=".1"/>
        </inertial>
        <visual>
            <origin xyz="0 0 0" rpy="0 0 0"/>
            <geometry>
                <box size="0.1111111111111111 0.1111111111111111 0.002"/>
            </geometry>
        </visual>
        <collision>
            <origin xyz="0 0 0" rpy="0 0 0"/>
            <geometry>
                <box size="0.1111111111111111 0.1111111111111111 0.002"/>
            </geometry>
        </collision>
    </link>
    <!-- Joint: body, body_face_top_5 -->
    <joint name="body_body_face_top_5_joint" type="fixed">
        <parent link="body"/>
        <child link="body_face_top_5"/>
        <origin xyz="-0.1111111111111111 0.0 0.501"
                rpy="0 0 0"/>
        <axis xyz="0 0 1"/>
        
    </joint>


    <!-- body_face_top_6 -->
    <link name="body_face_top_6">
        <inertial>
            <origin xyz="0 0 0" rpy="0 0 0"/>
            <mass value="0"/>
            <inertia ixx=".1" ixy=".1" ixz=".1" iyy=".1" iyz=".1" izz=".1"/>
        </inertial>
        <visual>
            <origin xyz="0 0 0" rpy="0 0 0"/>
            <geometry>
                <box size="0.1111111111111111 0.1111111111111111 0.002"/>
            </geometry>
        </visual>
        <collision>
            <origin xyz="0 0 0" rpy="0 0 0"/>
            <geometry>
                <box size="0.1111111111111111 0.1111111111111111 0.002"/>
            </geometry>
        </collision>
    </link>
    <!-- Joint: body, body_face_top_6 -->
    <joint name="body_body_face_top_6_joint" type="fixed">
        <parent link="body"/>
        <child link="body_face_top_6"/>
        <origin xyz="0.0 0.0 0.501"
                rpy="0 0 0"/>
        <axis xyz="0 0 1"/>
        
    </joint>


    <!-- body_face_top_7 -->
    <link name="body_face_top_7">
        <inertial>
            <origin xyz="0 0 0" rpy="0 0 0"/>
            <mass value="0"/>
            <inertia ixx=".1" ixy=".1" ixz=".1" iyy=".1" iyz=".1" izz=".1"/>
        </inertial>
        <visual>
            <origin xyz="0 0 0" rpy="0 0 0"/>
            <geometry>
                <box size="0.1111111111111111 0.1111111111111111 0.002"/>
            </geometry>
        </visual>
        <collision>
            <origin xyz="0 0 0" rpy="0 0 0"/>
            <geometry>
                <box size="0.1111111111111111 0.1111111111111111 0.002"/>
            </geometry>
        </collision>
    </link>
    <!-- Joint: body, body_face_top_7 -->
    <joint name="body_body_face_top_7_joint" type="fixed">
        <parent link="body"/>
        <child link="body_face_top_7"/>
        <origin xyz="0.11111111111111116 0.0 0.501"
                rpy="0 0 0"/>
        <axis xyz="0 0 1"/>
        
    </joint>


    <!-- body_face_top_8 -->
    <link name="body_face_top_8">
        <inertial>
            <origin xyz="0 0 0" rpy="0 0 0"/>
            <mass value="0"/>
            <inertia ixx=".1" ixy=".1" ixz=".1" iyy=".1" iyz=".1" izz=".1"/>
        </inertial>
        <visual>
            <origin xyz="0 0 0" rpy="0 0 0"/>
            <geometry>
                <box size="0.1111111111111111 0.1111111111111111 0.002"/>
            </geometry>
        </visual>
        <collision>
            <origin xyz="0 0 0" rpy="0 0 0"/>
            <geometry>
                <box size="0.1111111111111111 0.1111111111111111 0.002"/>
            </geometry>
        </collision>
    </link>
    <!-- Joint: body, body_face_top_8 -->
    <joint name="body_body_face_top_8_joint" type="fixed">
        <parent link="body"/>
        <child link="body_face_top_8"/>
        <origin xyz="0.2222222222222222 0.0 0.501"
                rpy="0 0 0"/>
        <axis xyz="0 0 1"/>
        
    </joint>


    <!-- body_face_top_9 -->
    <link name="body_face_top_9">
        <inertial>
            <origin xyz="0 0 0" rpy="0 0 0"/>
            <mass value="0"/>
            <inertia ixx=".1" ixy=".1" ixz=".1" iyy=".1" iyz=".1" izz=".1"/>
        </inertial>
        <visual>
            <origin xyz="0 0 0" rpy="0 0 0"/>
            <geometry>
                <box size="0.1111111111111111 0.1111111111111111 0.002"/>
            </geometry>
        </visual>
        <collision>
            <origin xyz="0 0 0" rpy="0 0 0"/>
            <geometry>
                <box size="0.1111111111111111 0.1111111111111111 0.002"/>
            </geometry>
        </collision>
    </link>
    <!-- Joint: body, body_face_top_9 -->
    <joint name="body_body_face_top_9_joint" type="fixed">
        <parent link="body"/>
        <child link="body_face_top_9"/>
        <origin xyz="0.33333333333333337 0.0 0.501"
                rpy="0 0 0"/>
        <axis xyz="0 0 1"/>
        
    </joint>


    <!-- body_face_top_10 -->
    <link name="body_face_top_10">
        <inertial>
            <origin xyz="0 0 0" rpy="0 0 0"/>
            <mass value="0"/>
            <inertia ixx=".1" ixy=".1" ixz=".1" iyy=".1" iyz=".1" izz=".1"/>
        </inertial>
        <visual>
            <origin xyz="0 0 0" rpy="0 0 0"/>
            <geometry>
                <box size="0.1111111111111111 0.1111111111111111 0.002"/>
            </geometry>
        </visual>
        <collision>
            <origin xyz="0 0 0" rpy="0 0 0"/>
            <geometry>
                <box size="0.1111111111111111 0.1111111111111111 0.002"/>
            </geometry>
        </collision>
    </link>
    <!-- Joint: body, body_face_top_10 -->
    <joint name="body_body_face_top_10_joint" type="fixed">
        <parent link="body"/>
        <child link="body_face_top_10"/>
        <origin xyz="0.11111111111111116 0.11111111111111116 0.501"
                rpy="0 0 0"/>
        <axis xyz="0 0 1"/>
        
    </joint>


    <!-- body_face_top_11 -->
    <link name="body_face_top_11">
        <inertial>
            <origin xyz="0 0 0" rpy="0 0 0"/>
            <mass value="0"/>
            <inertia ixx=".1" ixy=".1" ixz=".1" iyy=".1" iyz=".1" izz=".1"/>
        </inertial>
        <visual>
            <origin xyz="0 0 0" rpy="0 0 0"/>
            <geometry>
                <box size="0.1111111111111111 0.1111111111111111 0.002"/>
            </geometry>
        </visual>
        <collision>
            <origin xyz="0 0 0" rpy="0 0 0"/>
            <geometry>
                <box size="0.1111111111111111 0.1111111111111111 0.002"/>
            </geometry>
        </collision>
    </link>
    <!-- Joint: body, body_face_top_11 -->
    <joint name="body_body_face_top_11_joint" type="fixed">
        <parent link="body"/>
        <child link="body_face_top_11"/>
        <origin xyz="0.2222222222222222 0.11111111111111116 0.501"
                rpy="0 0 0"/>
        <axis xyz="0 0 1"/>
        
    </joint>


    <!-- body_face_top_12 -->
    <link name="body_face_top_12">
        <inertial>
            <origin xyz="0 0 0" rpy="0 0 0"/>
            <mass value="0"/>
            <inertia ixx=".1" ixy=".1" ixz=".1" iyy=".1" iyz=".1" izz=".1"/>
        </inertial>
        <visual>
            <origin xyz="0 0 0" rpy="0 0 0"/>
            <geometry>
                <box size="0.1111111111111111 0.1111111111111111 0.002"/>
            </geometry>
        </visual>
        <collision>
            <origin xyz="0 0 0" rpy="0 0 0"/>
            <geometry>
                <box size="0.1111111111111111 0.1111111111111111 0.002"/>
            </geometry>
        </collision>
    </link>
    <!-- Joint: body, body_face_top_12 -->
    <joint name="body_body_face_top_12_joint" type="fixed">
        <parent link="body"/>
        <child link="body_face_top_12"/>
        <origin xyz="0.11111111111111116 0.2222222222222222 0.501"
                rpy="0 0 0"/>
        <axis xyz="0 0 1"/>
        
    </joint>


</robot>
